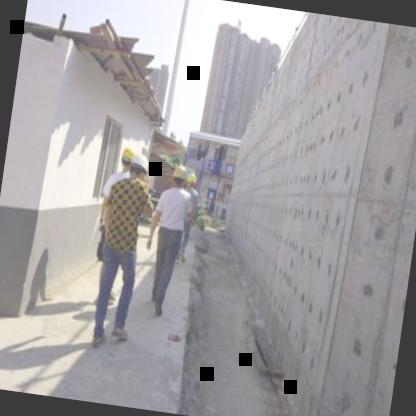helmet: (124, 153, 150, 189), (116, 143, 136, 177), (168, 158, 188, 190), (182, 170, 197, 196)
